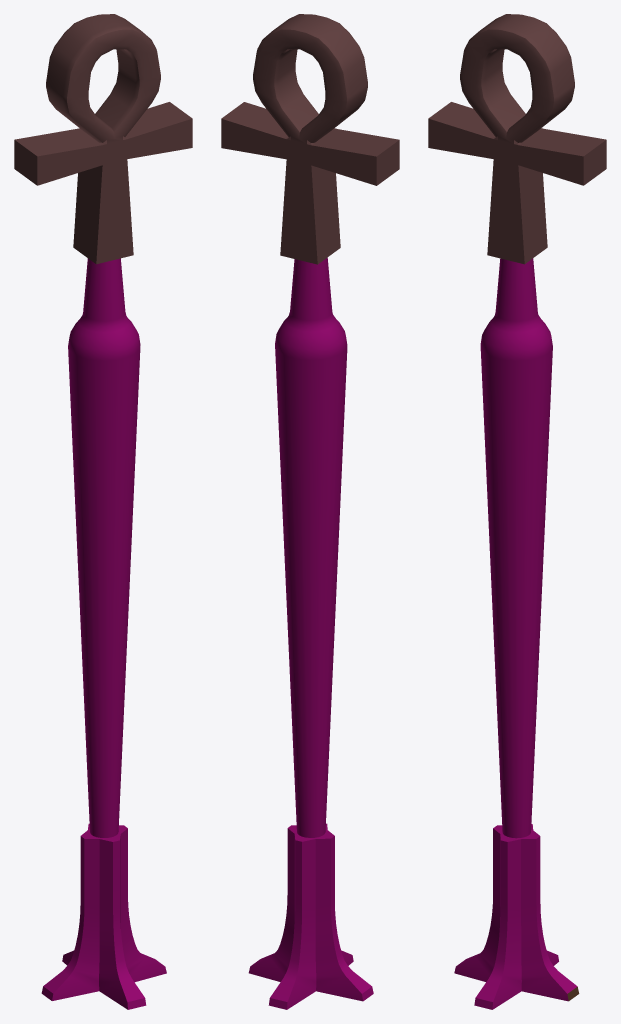
File: Baston para substance.fbx
3 views of the same model, side by side, from view 1: azimuth 30°, elevation 25°; view 2: azimuth 150°, elevation 25°; view 3: azimuth 330°, elevation 25° (orthographic).
Parts seen in each view (by area): view 1: polySurface7; view 2: polySurface7; view 3: polySurface7.
Boxes of the visible parts, box(x1,y1,x2,y2) form: polySurface7: box(14, 14, 192, 1009); polySurface7: box(221, 14, 399, 1009); polySurface7: box(428, 14, 606, 1009).
Bounding box in the file's own units: 3.75 × 22.19 × 2.77.
